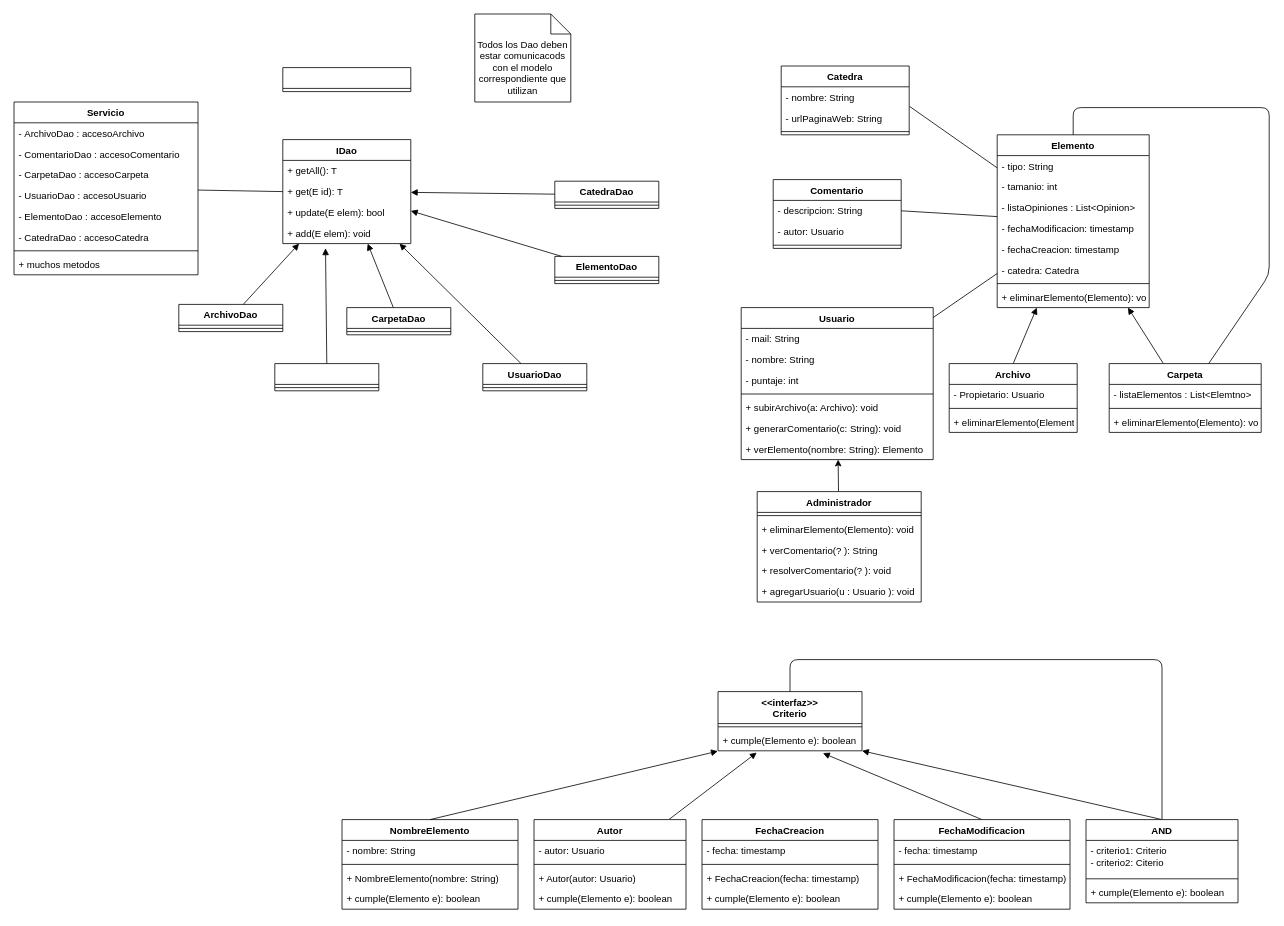
The diagram is 1284 pixels wide and 926 high, and some of its shapes have lost their labels. The centre of each missing label's shape, as x and y in pixels:
ComentarioDao: pixel 326 377
Dao: pixel 346 79
